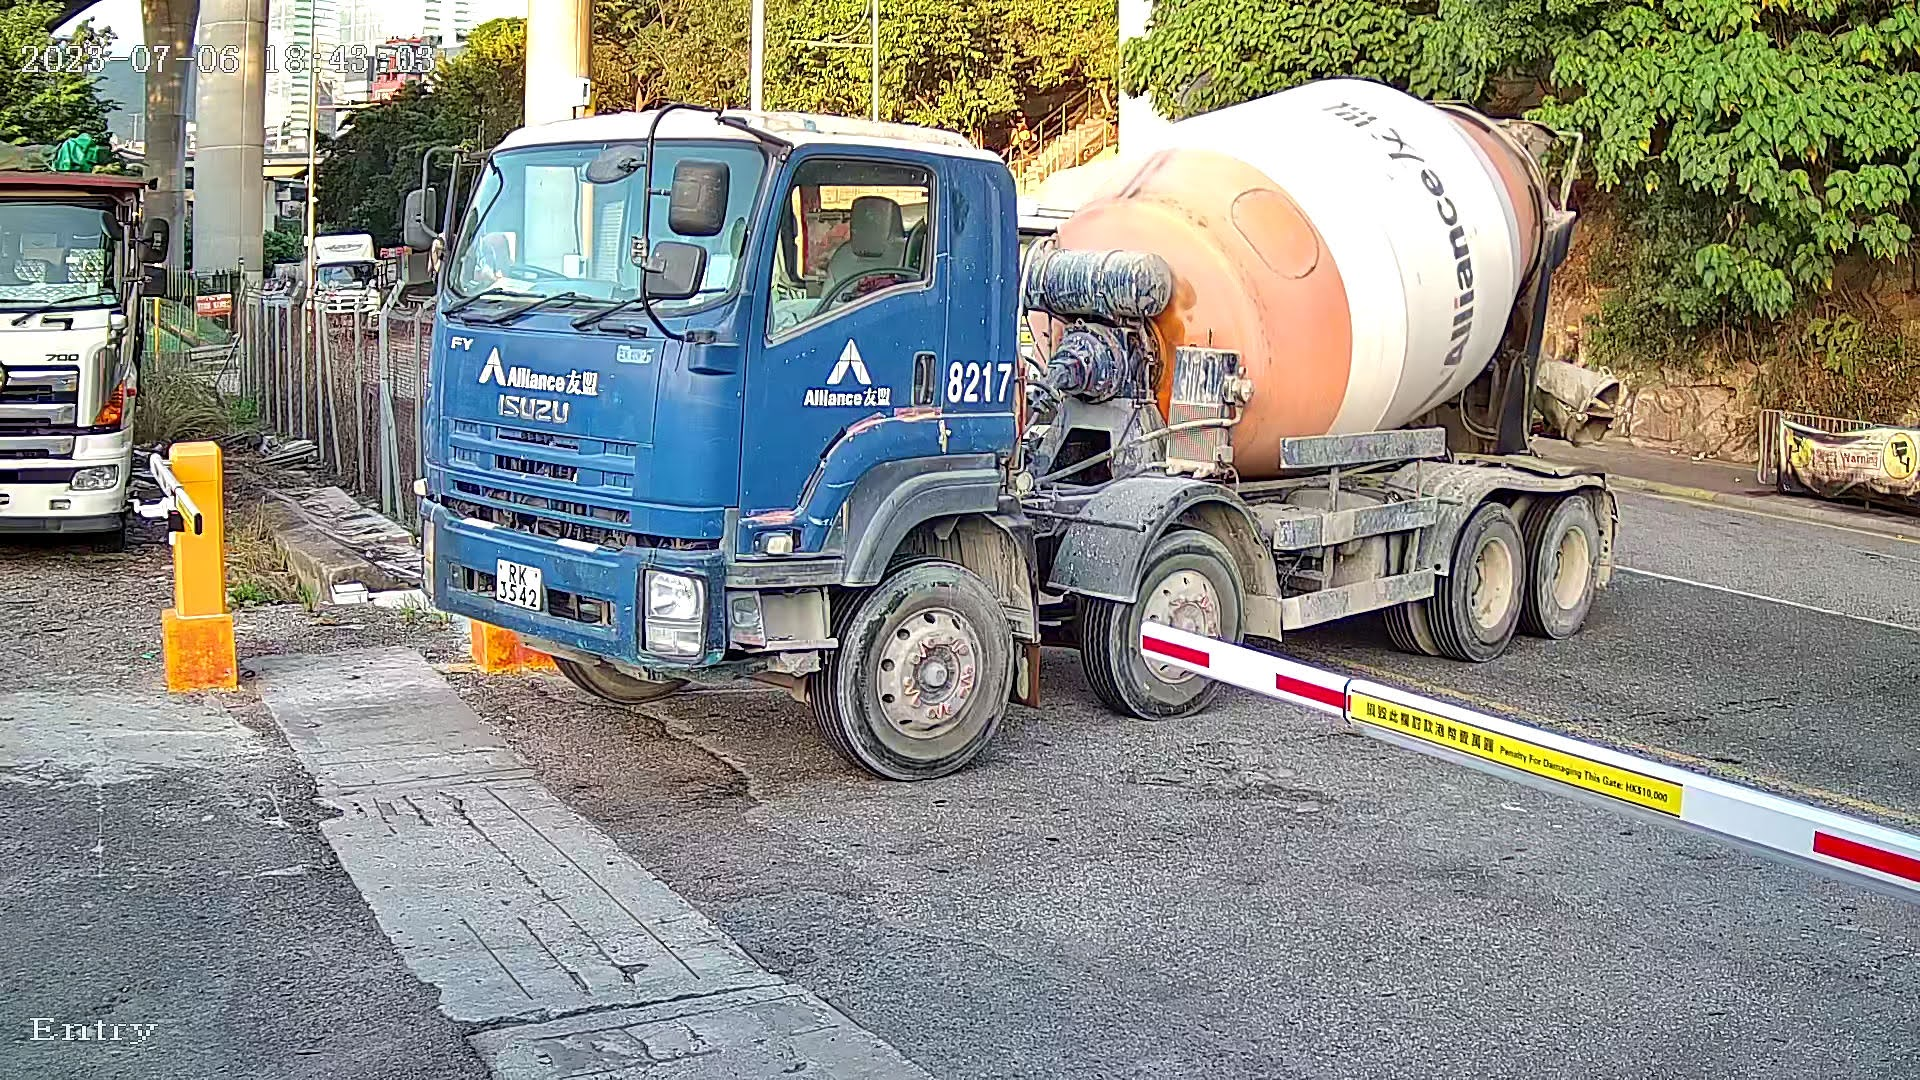truck: (388, 26, 1706, 769)
